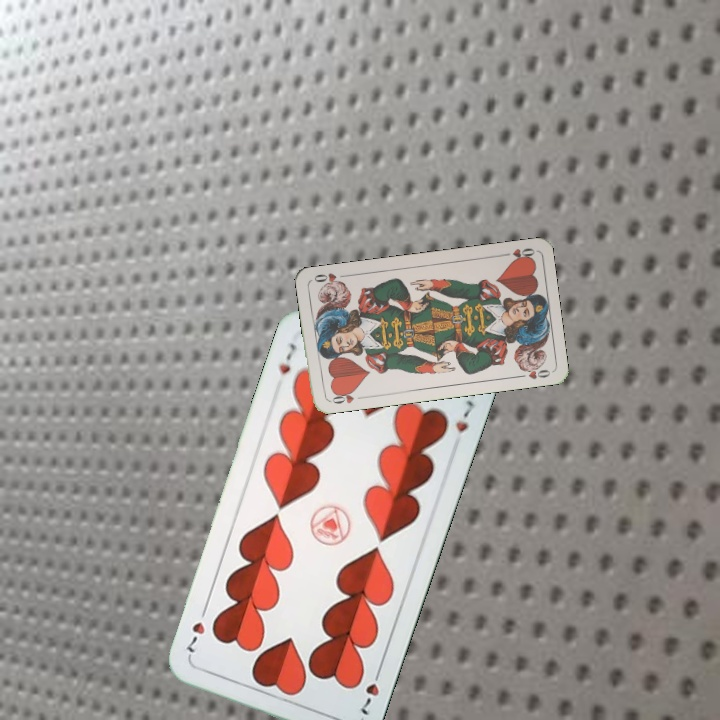H7: (356, 663, 385, 718), (275, 339, 302, 377)
HO: (325, 386, 366, 406), (496, 244, 537, 263)
